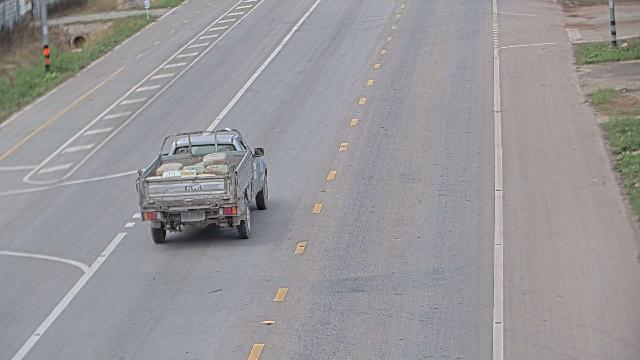pickup-truck: (134, 127, 269, 244)
